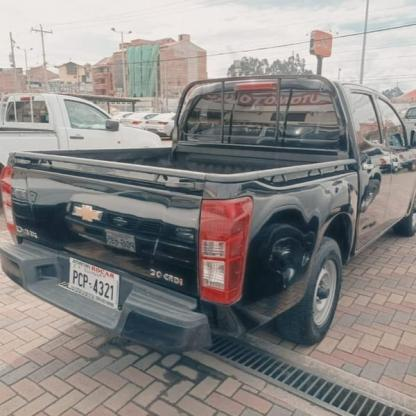Placa: (63, 256, 123, 314)
